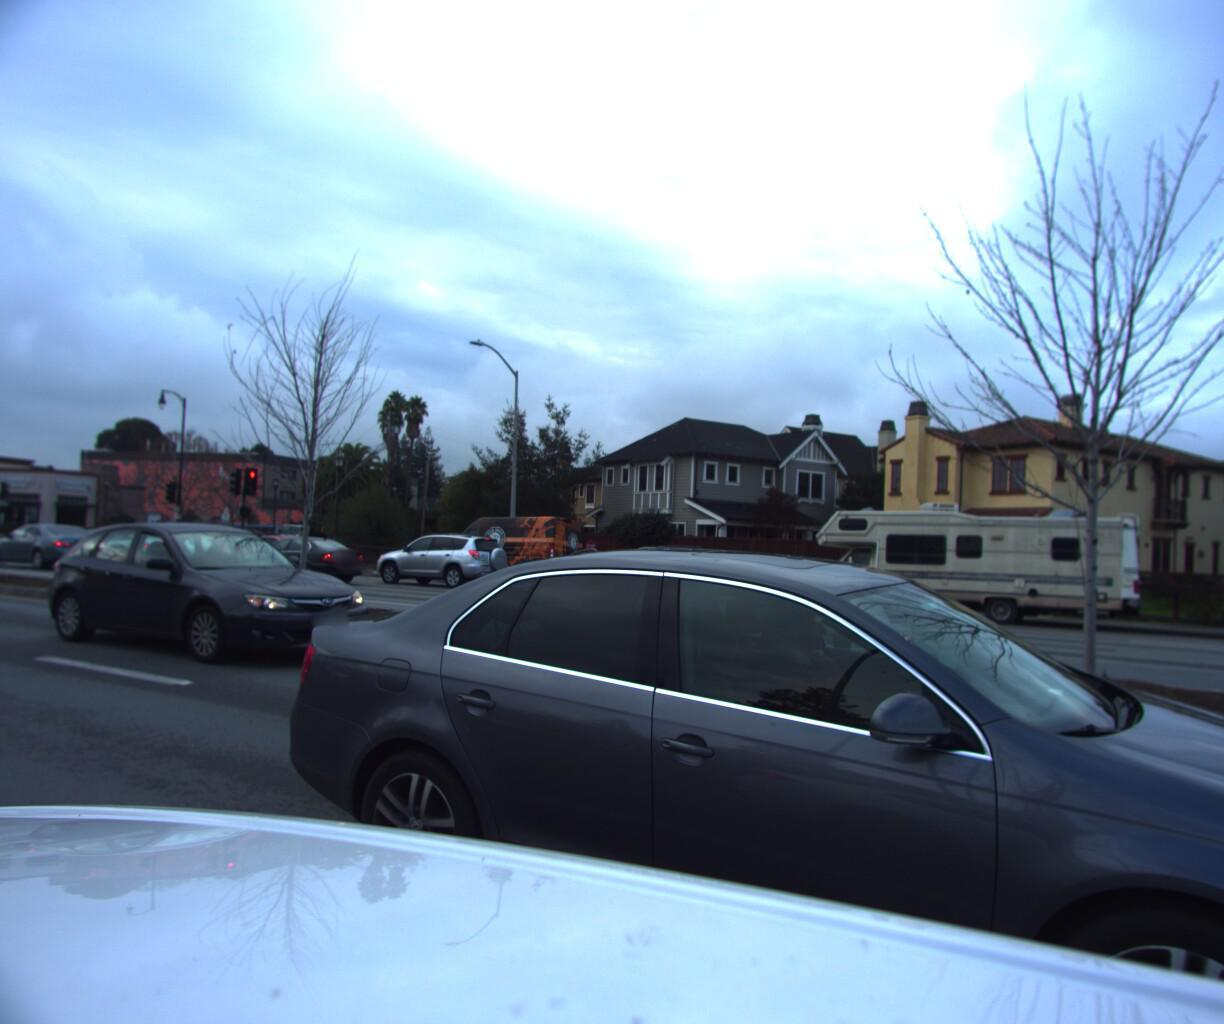car: (233, 545, 1224, 1024), (47, 523, 416, 686), (422, 511, 588, 591), (577, 538, 738, 606), (374, 531, 527, 591), (223, 534, 372, 588), (62, 525, 200, 576), (0, 522, 113, 577), (215, 530, 339, 579), (1207, 553, 1224, 658)
other_vehicle: (791, 493, 1145, 633)
truck: (276, 519, 347, 553)
